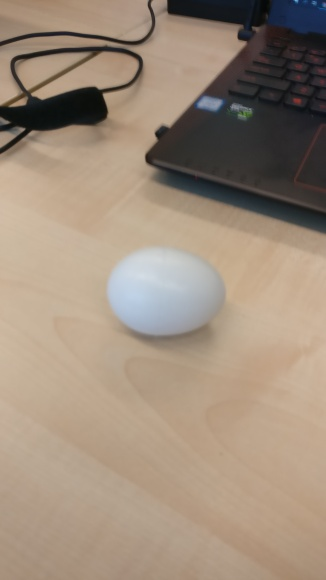egg: (106, 242, 226, 346)
